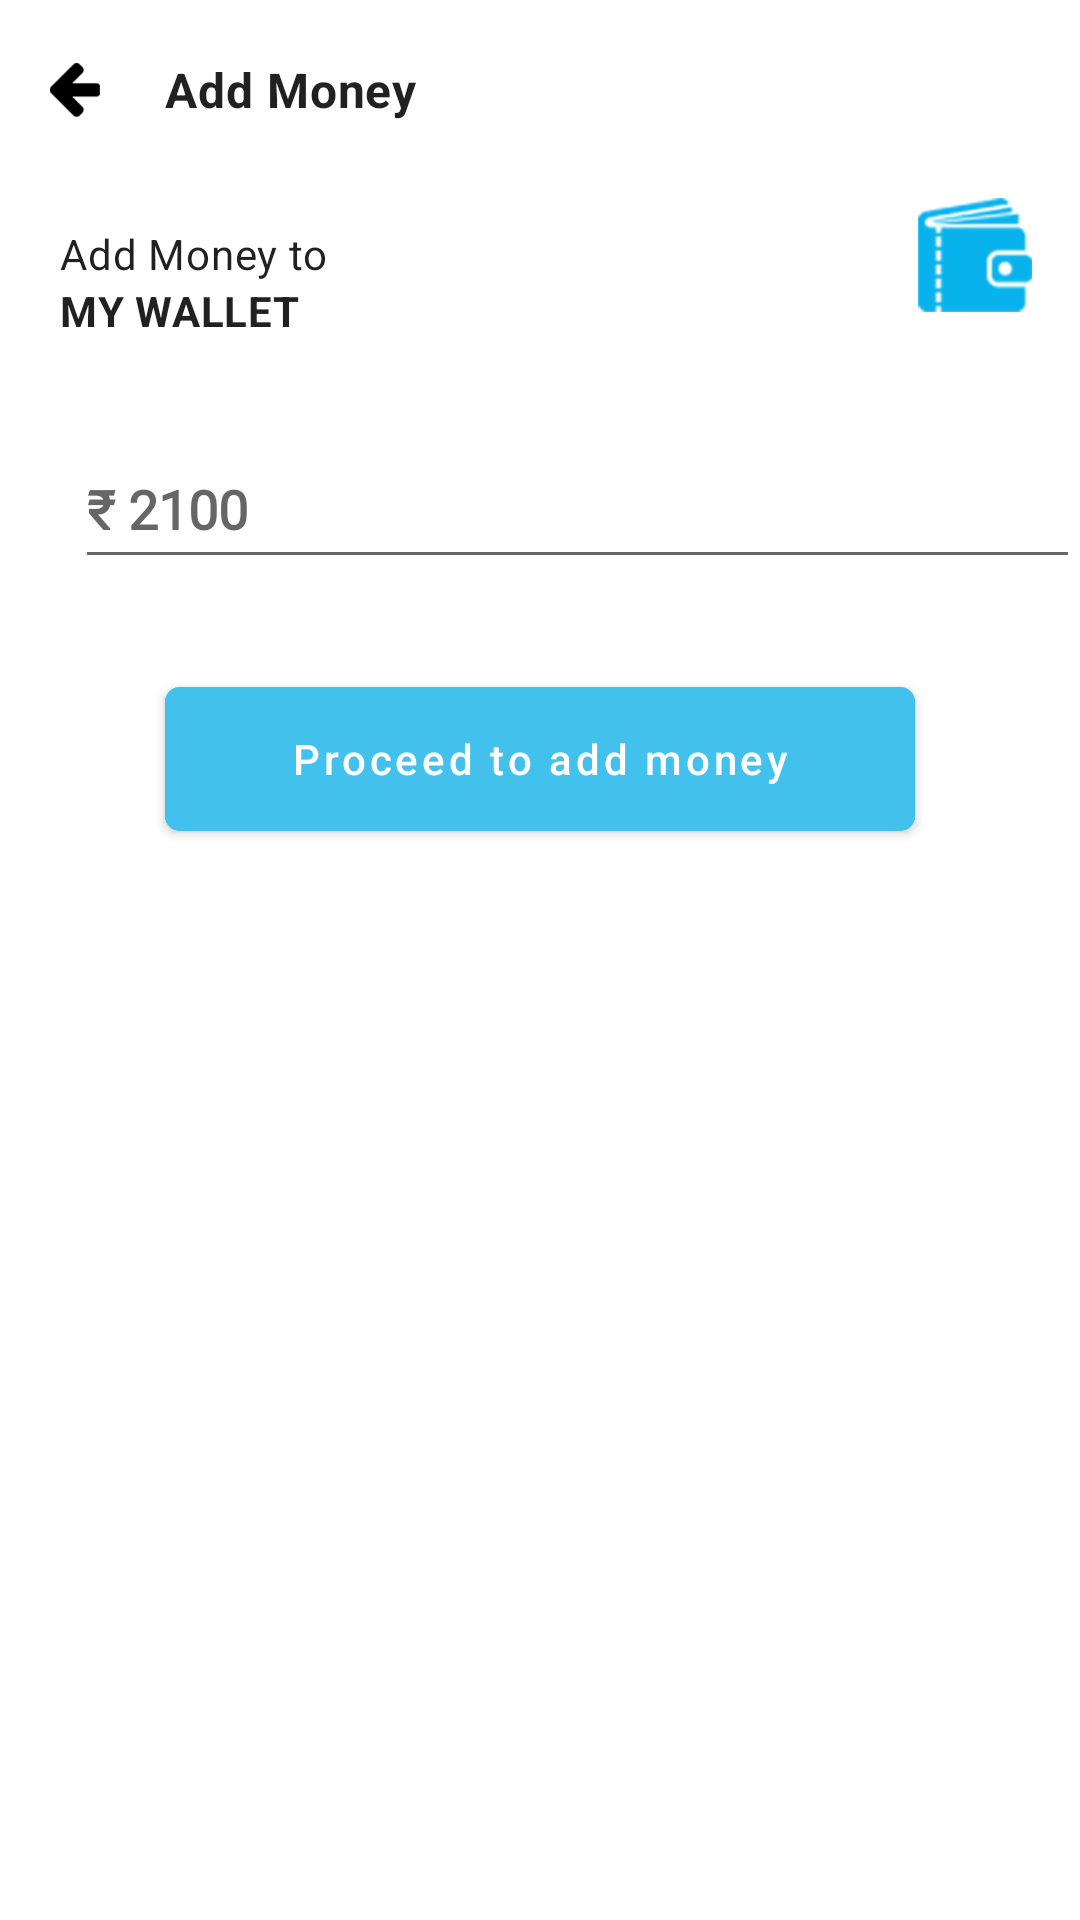

Where to tap for icons on this 1080x1920 app screen, as (x,y):
blackarrow: (75,90)
wallet: (975,255)
